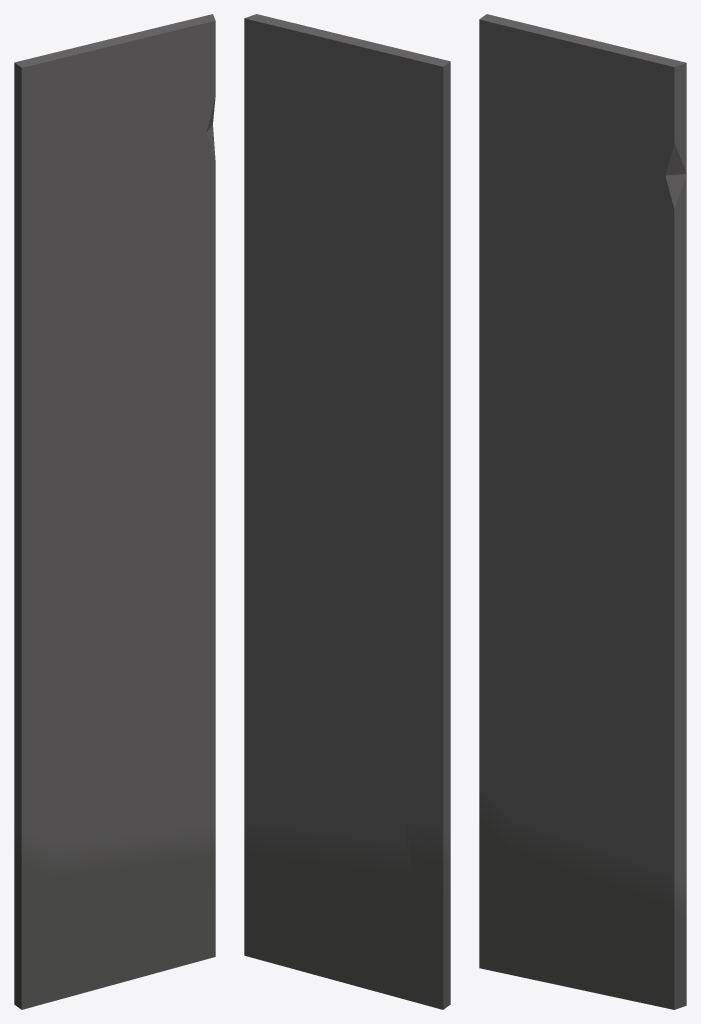
Rendered from SM_Prop_Cabinet_Door_01.fbx.
3 renders of one model, left to right at view 1: azimuth 30°, elevation 25°; view 2: azimuth 150°, elevation 25°; view 3: azimuth 330°, elevation 25°, orthographic.
Visible parts, largest first — view 1: SM_Prop_Cabinet_Door_01; view 2: SM_Prop_Cabinet_Door_01; view 3: SM_Prop_Cabinet_Door_01.
Boxes of the visible parts, bbox=[...] form: SM_Prop_Cabinet_Door_01: bbox=[14, 14, 215, 1009]; SM_Prop_Cabinet_Door_01: bbox=[244, 14, 450, 1009]; SM_Prop_Cabinet_Door_01: bbox=[479, 14, 686, 1009].
Size of the model in its own units: 49.37 by 224 by 3.23.
